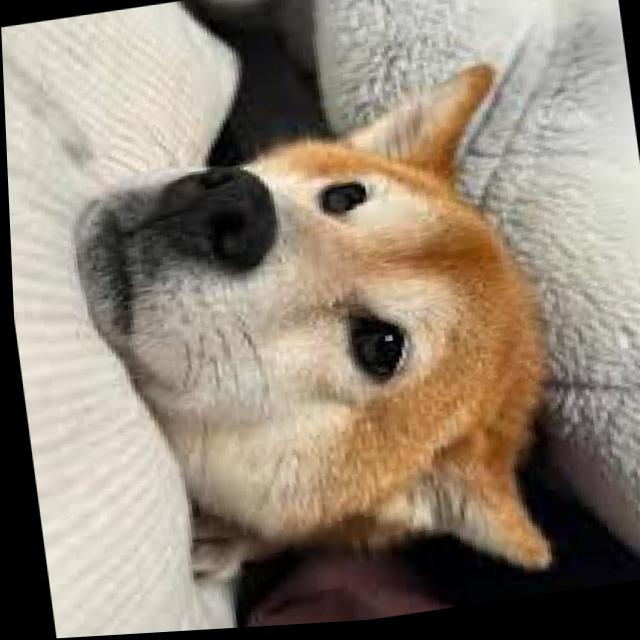dog: (59, 57, 572, 633)
